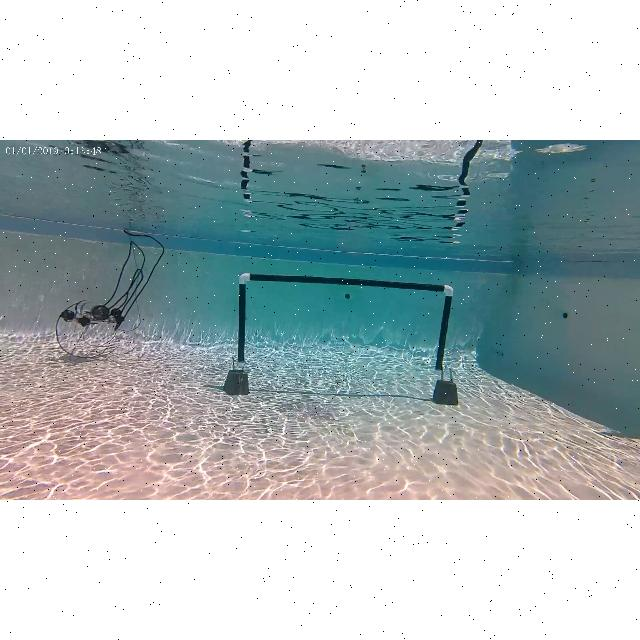prequal gate: (236, 270, 454, 376)
prequal gate leg l: (436, 281, 464, 411)
prequal gate leg r: (223, 270, 254, 396)
